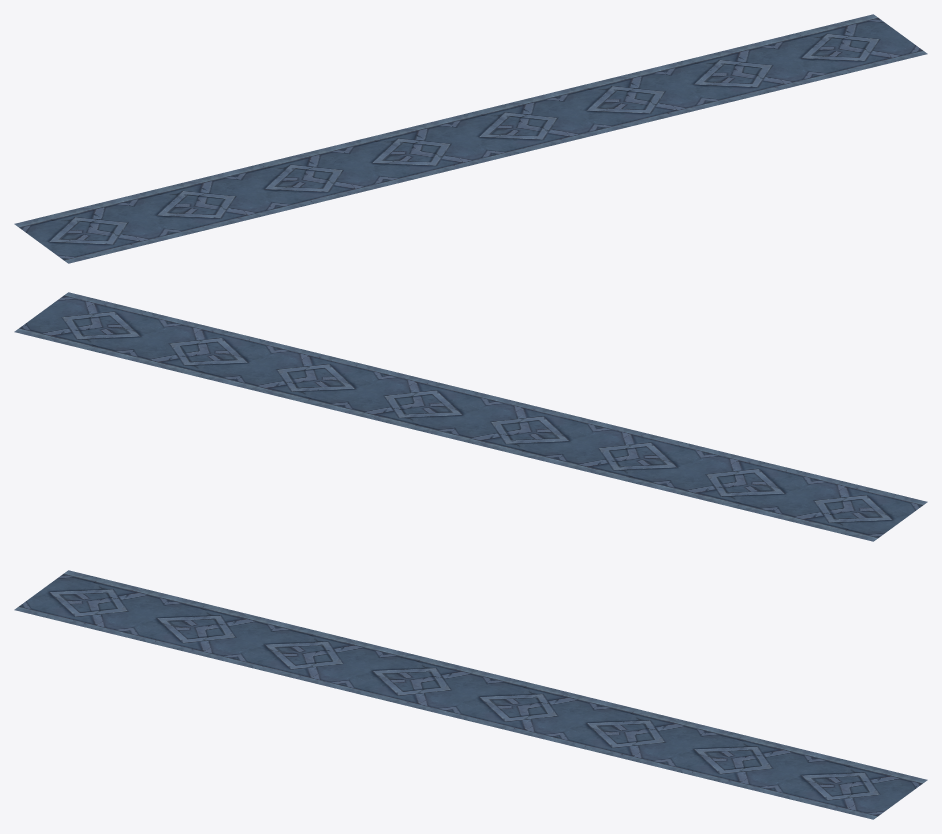
File: Area_11_8.fbx
3 views of the same model, one above another, from view 1: azimuth 30°, elevation 25°; view 2: azimuth 150°, elevation 25°; view 3: azimuth 330°, elevation 25° (orthographic).
Visible parts, largest first — view 1: Area_11_8; view 2: Area_11_8; view 3: Area_11_8.
Part boxes in pixels (box(x1,y1,x2,y2)): Area_11_8: box(14, 14, 927, 263); Area_11_8: box(14, 292, 927, 541); Area_11_8: box(14, 570, 927, 819).
Bounding box in the file's own units: 5448 × 0.000178 × 598.
Materials: 1 (1 with a texture image).
